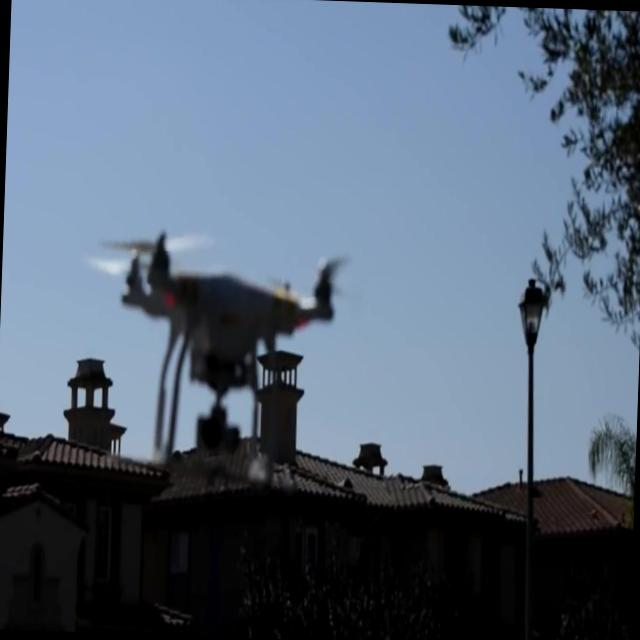drone: (118, 226, 355, 478)
